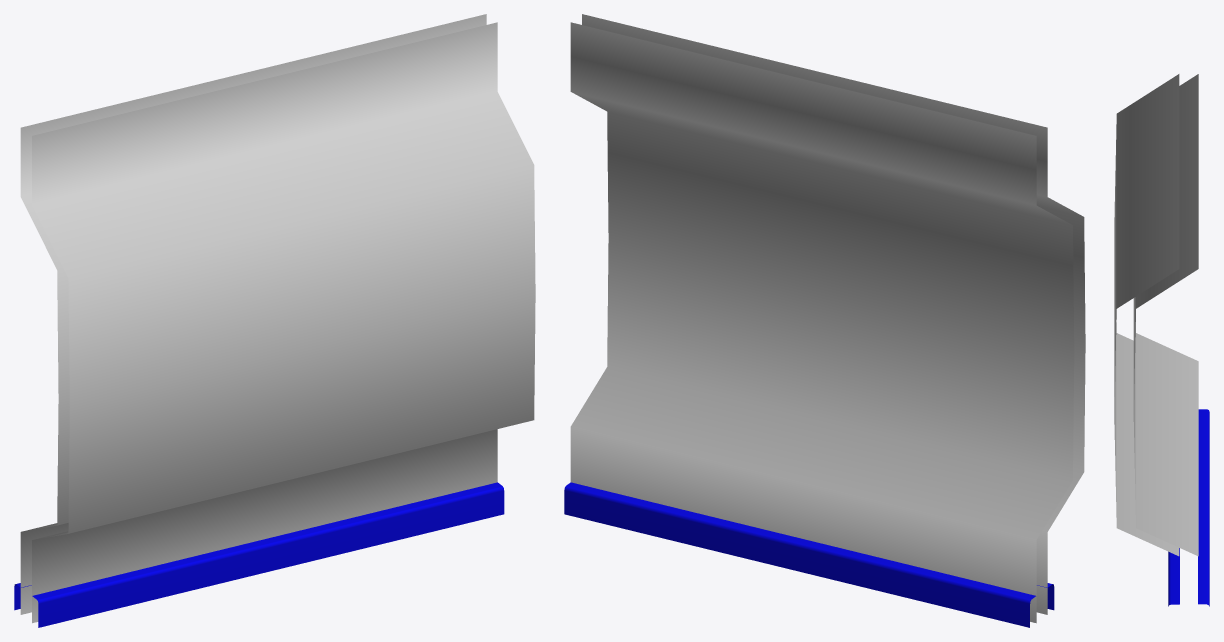
Rendered from WallBeveled.fbx.
3 views of the same model, side by side, from view 1: azimuth 30°, elevation 25°; view 2: azimuth 150°, elevation 25°; view 3: azimuth 270°, elevation 25° (orthographic). The views are drawn at different scales.
Parts seen in each view (by area): view 1: Wall, Trim; view 2: Wall, Trim; view 3: Wall, Trim.
Boxes of the visible parts, x1,y1,x2,y2 form: Wall: [20, 14, 535, 623]; Trim: [14, 482, 504, 627]; Wall: [570, 14, 1085, 623]; Trim: [564, 482, 1054, 627]; Wall: [1114, 74, 1198, 556]; Trim: [1168, 409, 1209, 606].
Bounding box in the file's own units: 12 × 12 × 2.47.
